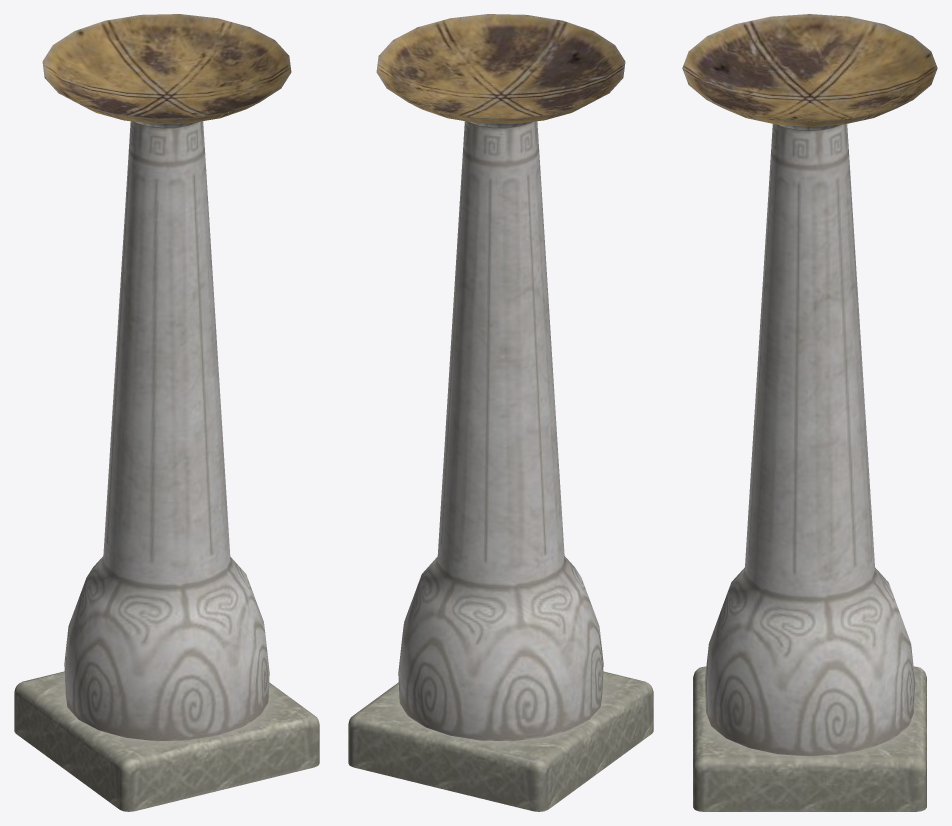
Rendered from Muspelheim_Ymir_Memory_Pillar.glb.
3 renders of one model, left to right at view 1: azimuth 30°, elevation 25°; view 2: azimuth 150°, elevation 25°; view 3: azimuth 270°, elevation 25°, orthographic. The views are drawn at different scales.
Visible parts, largest first — view 1: g (×2); view 2: g (×2); view 3: g (×2).
Part boxes in pixels (left/top/right/bottom): g (×2): left=14, top=14, right=319, bottom=811; g (×2): left=348, top=14, right=653, bottom=811; g (×2): left=682, top=14, right=937, bottom=811.
Bounding box in the file's own units: 0.6661 × 2 × 0.6661.
Materials: 1 (1 with a texture image).
